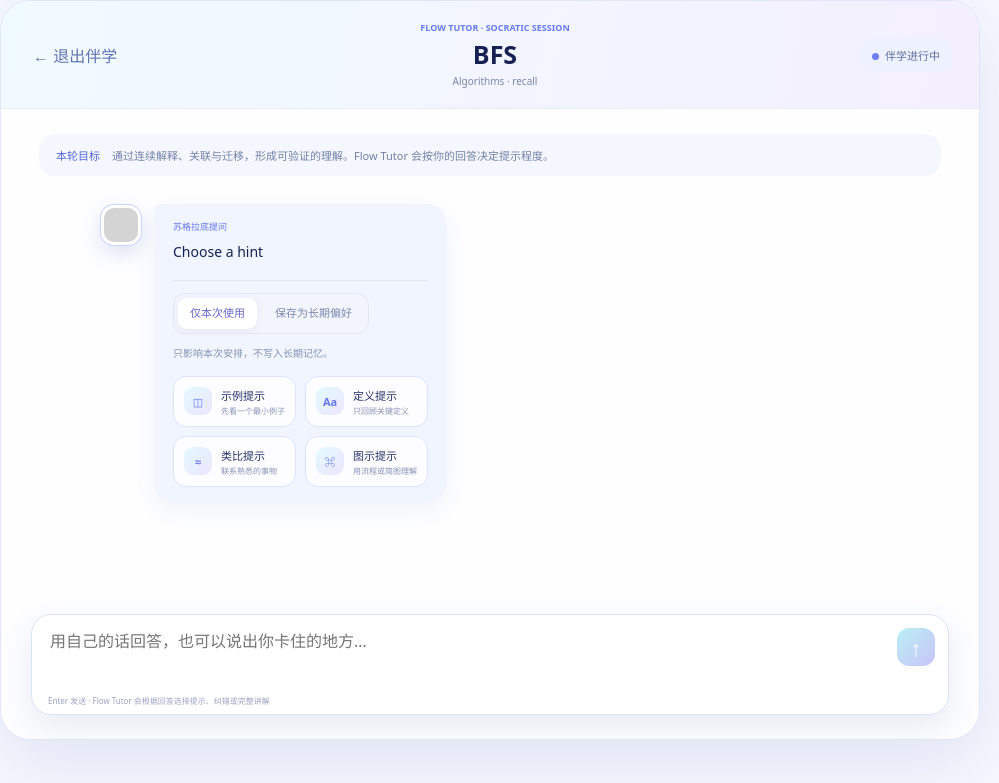
Test: temporary and long-term preference consent › retries a failed long-term save without generating or losing the hint again
Click the button "保存为长期偏好": (314, 313) [263,298,364,329]
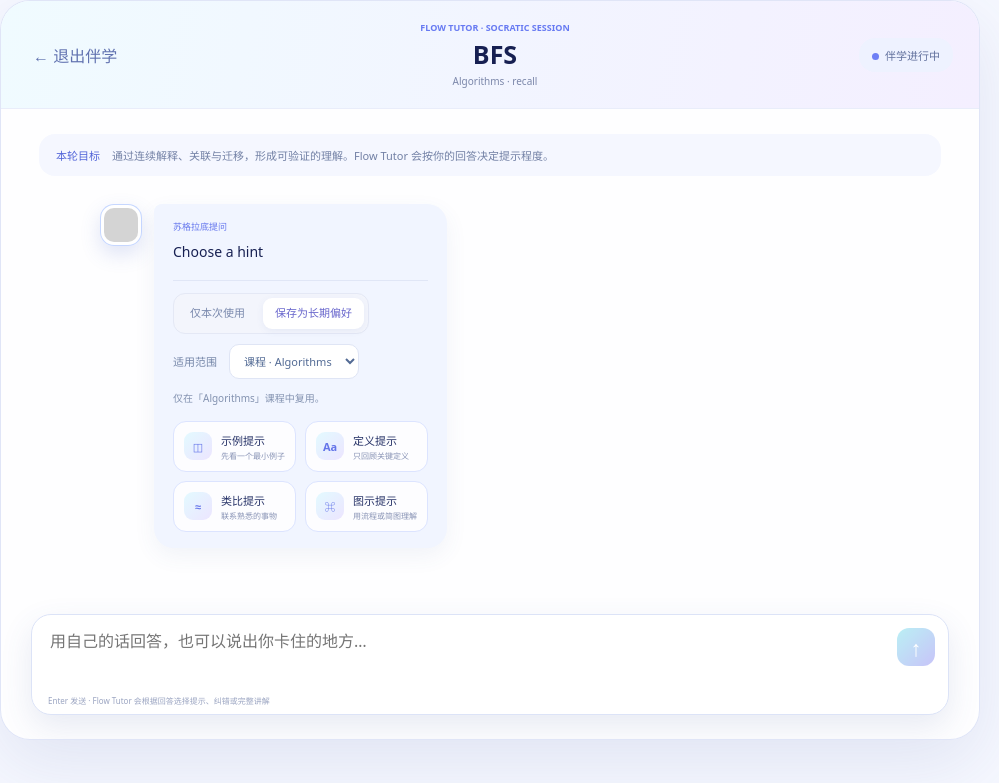
Select "知识点 · BFS" in the dropdown labelled "适用范围": (294, 361) [229,344,359,379]
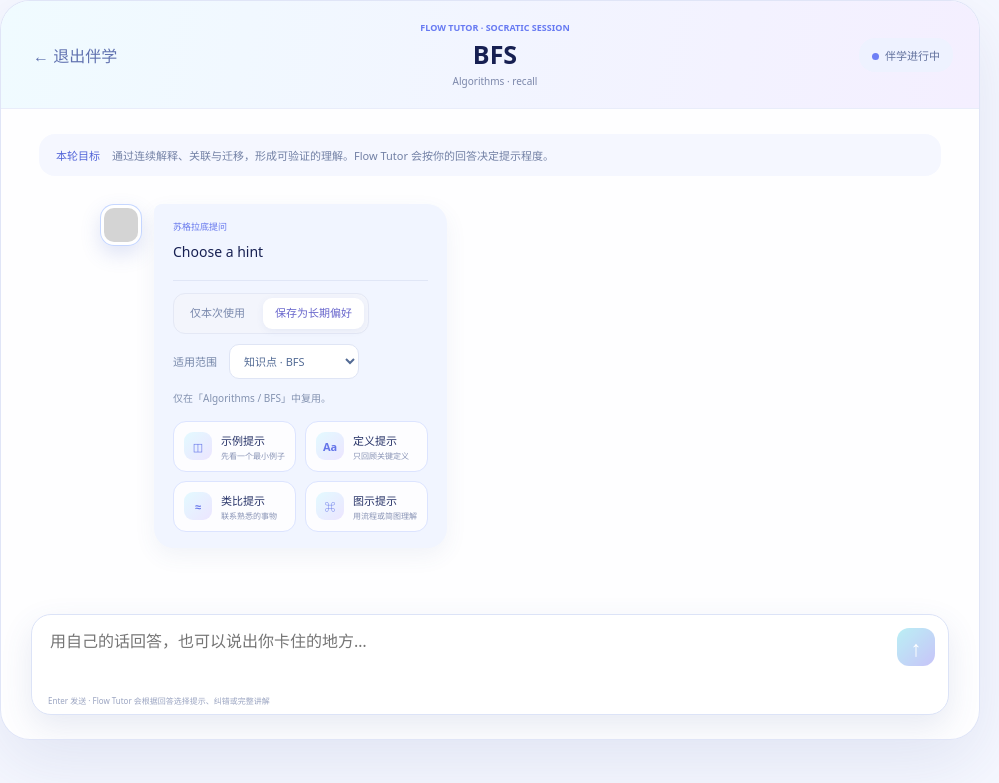
Click the button "◫ 示例提示 先看一个最小例子": (234, 446) [173,421,296,472]
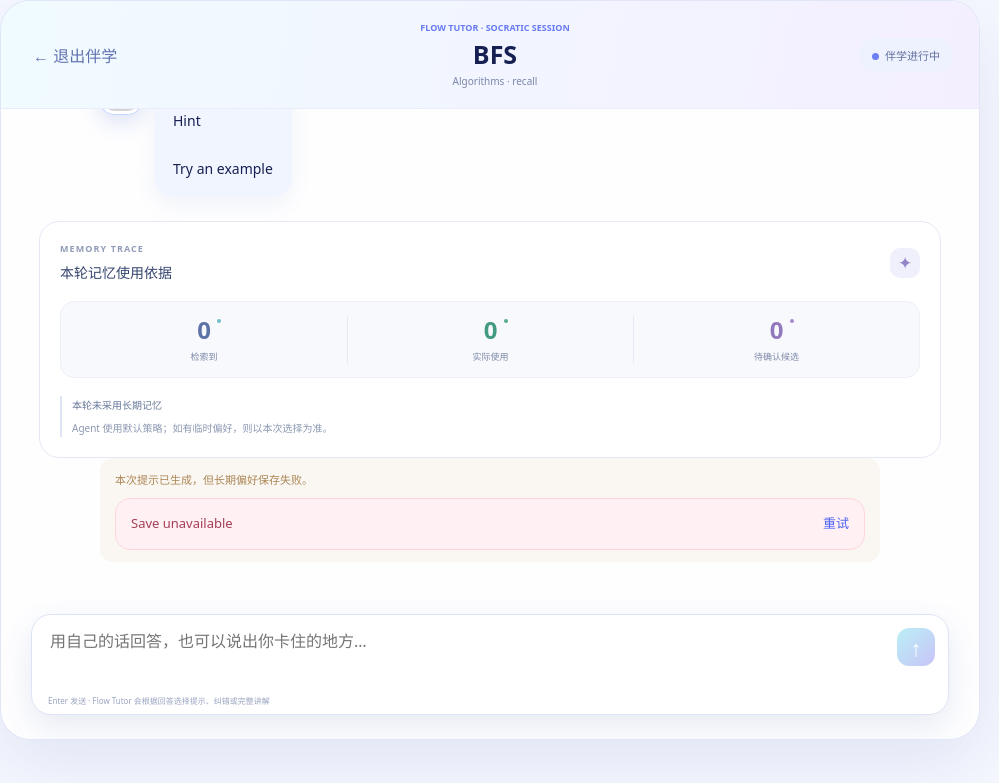
Result: the text "本次提示已生成，但长期偏好保存失败" is shown at [115,472,313,488]
Result: the text "Try an example" is shown at [173,111,273,178]
Click the button with class "link-button": (836, 524) [823,512,849,536]
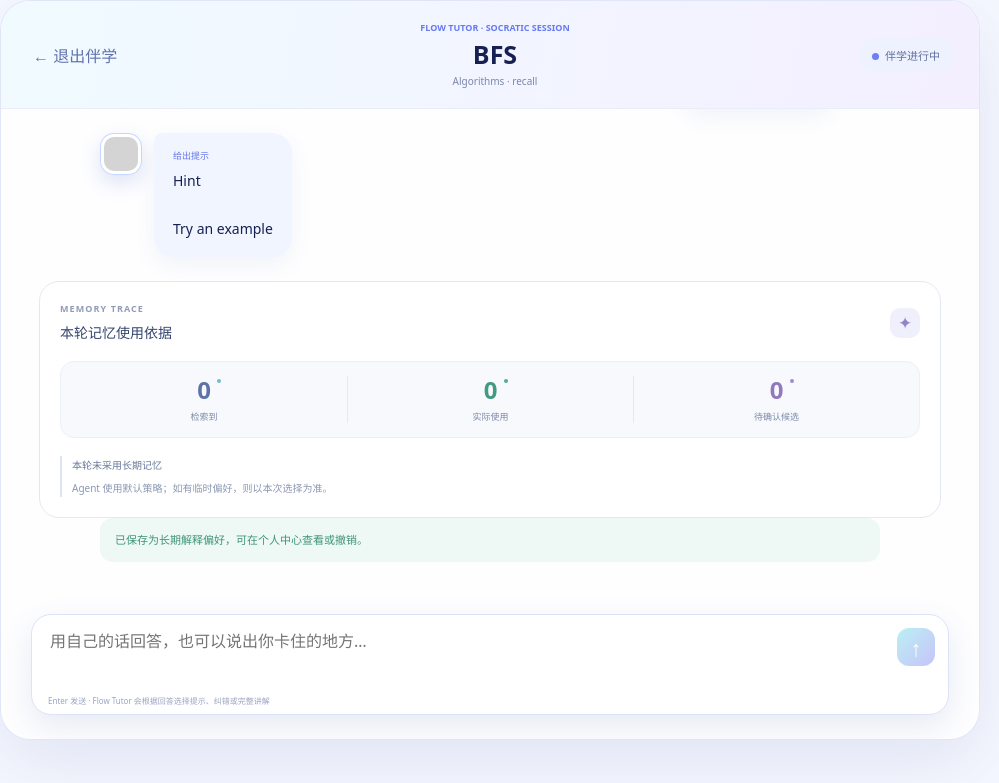
Result: the text "已保存为长期解释偏好" is shown at [115,532,368,548]
